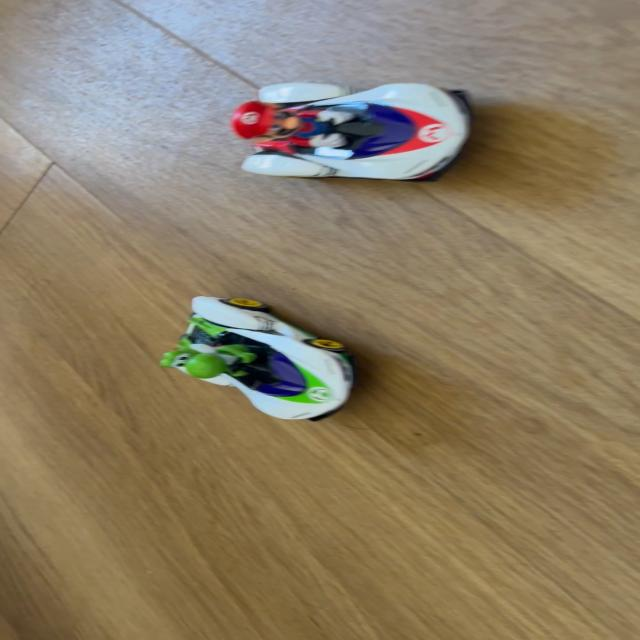mario: (226, 77, 490, 191)
yoshi: (147, 291, 377, 434)
